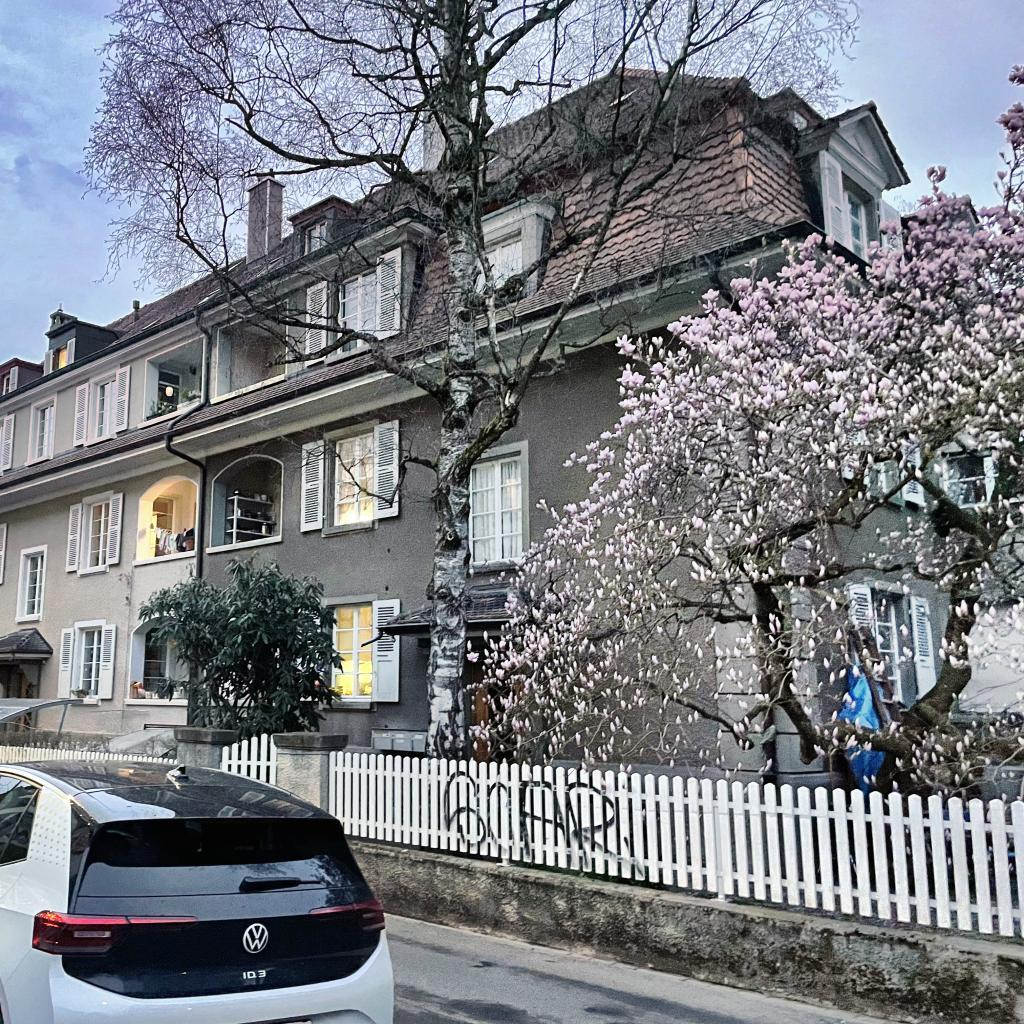car: (0, 759, 393, 1024)
facade: (0, 66, 1024, 800)
fence: (0, 726, 1024, 941)
street: (384, 913, 909, 1024)
vegetation: (75, 0, 1024, 796), (136, 550, 347, 741)
window: (470, 451, 521, 562), (331, 603, 372, 696), (334, 432, 374, 526), (337, 265, 376, 354), (476, 234, 521, 296), (843, 186, 868, 262), (75, 626, 102, 696), (87, 497, 110, 568), (94, 375, 115, 439), (25, 550, 44, 615), (35, 403, 54, 459), (157, 371, 180, 387)
